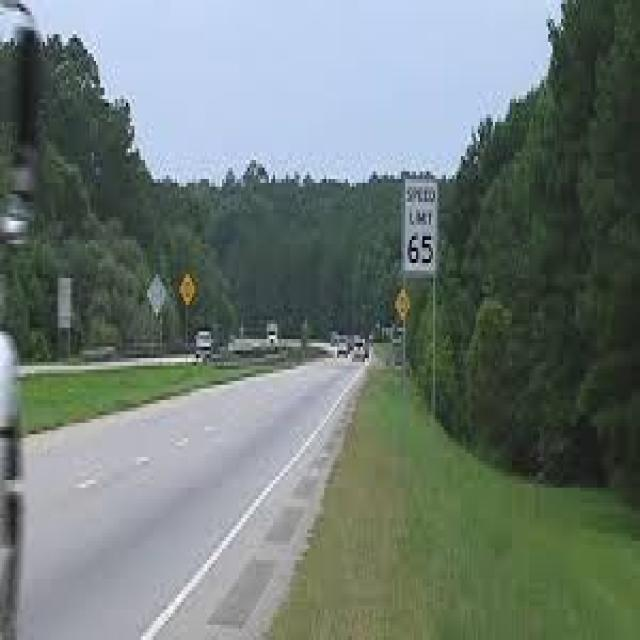speedLimit65: (400, 175, 436, 278)
